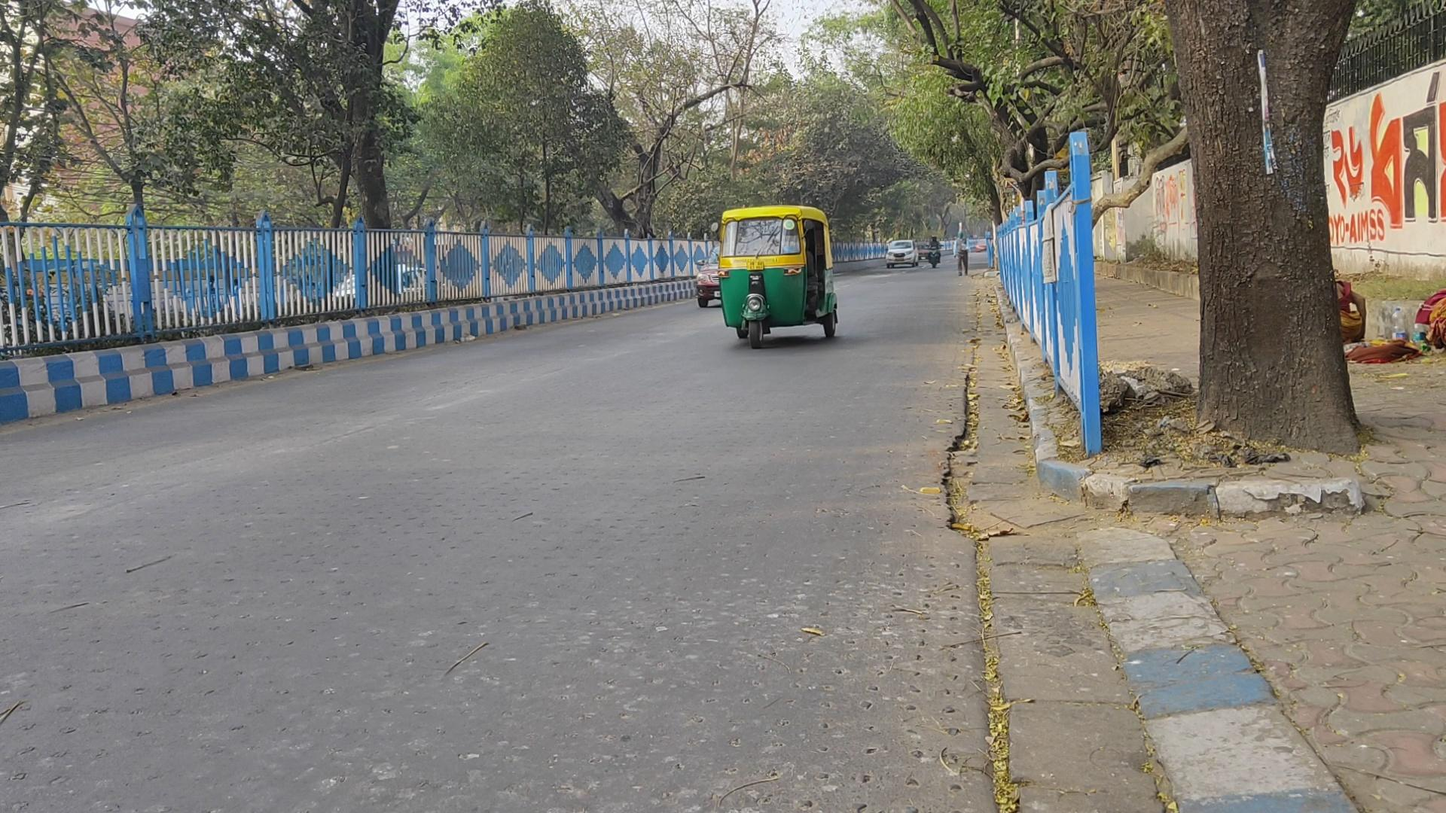Auto: (718, 207, 840, 348)
bike: (926, 233, 942, 269)
car: (885, 237, 919, 271)
